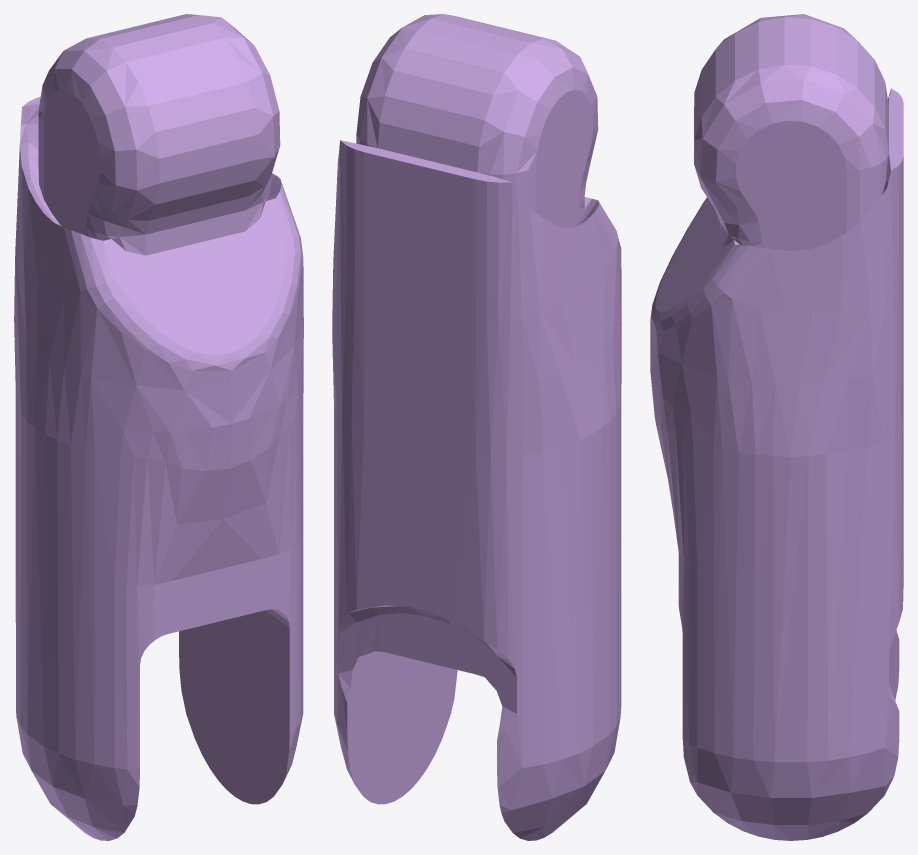
The picture shows the model from 3 angles, left to right: view 1: azimuth 30°, elevation 25°; view 2: azimuth 150°, elevation 25°; view 3: azimuth 270°, elevation 25°; orthographic projection. The views are drawn at different scales.
Parts seen in each view (by area): view 1: proximal; view 2: proximal; view 3: proximal.
Boxes of the visible parts, <box> form: proximal: <box>14,14,303,840</box>; proximal: <box>332,14,621,840</box>; proximal: <box>650,14,903,840</box>.
Bounding box in the file's own units: 20 × 18 × 59.94.
